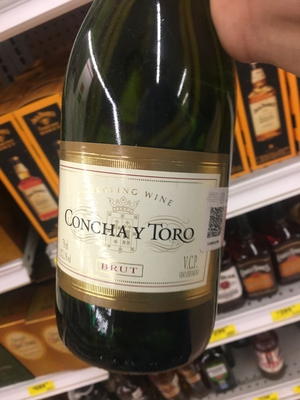brut: (41, 1, 263, 392)
